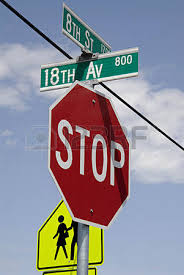Stop: (43, 81, 146, 222)
